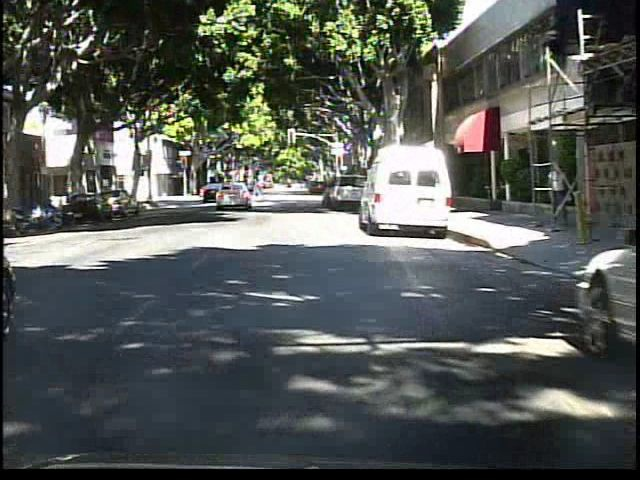person: (544, 160, 570, 234), (250, 175, 267, 208)
